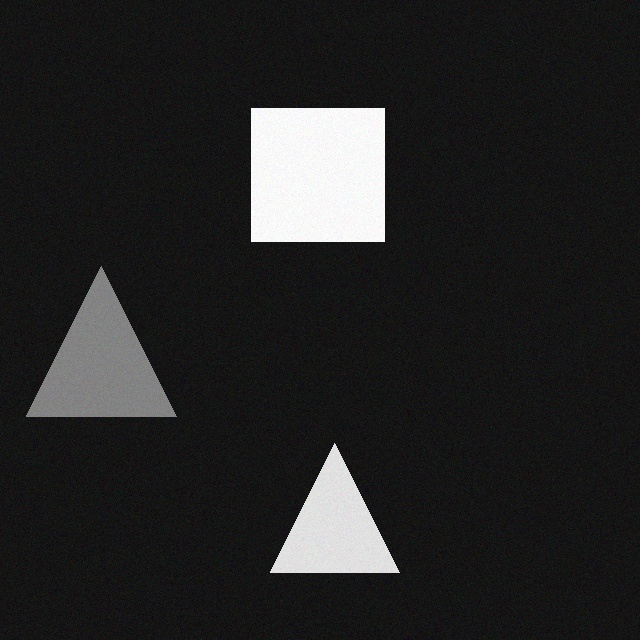square: (255, 109, 388, 242)
triangle: (30, 267, 180, 417), (274, 444, 403, 573)
